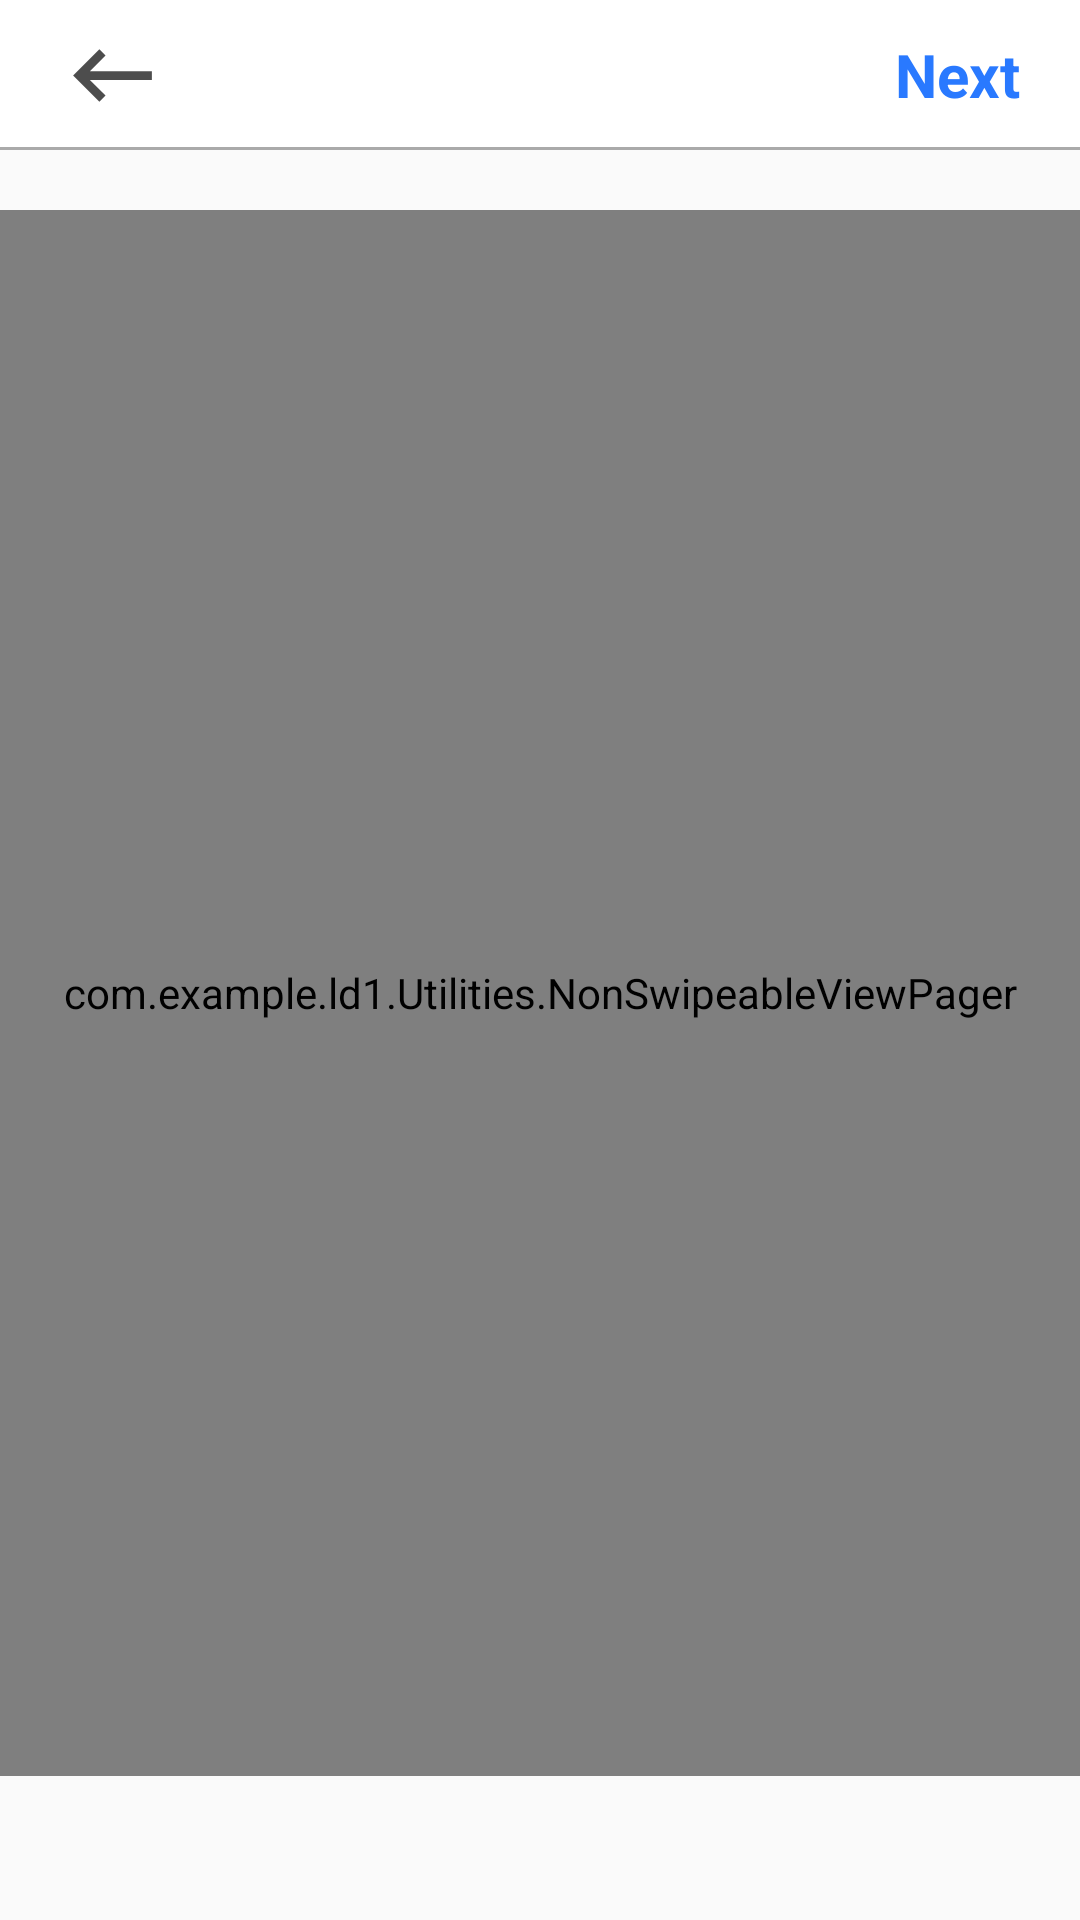

Locate icon controls on the screen. Image size 1080*1920, boxes as detection(x1, y1, x2, y2).
back: detection(73, 49, 152, 102)
